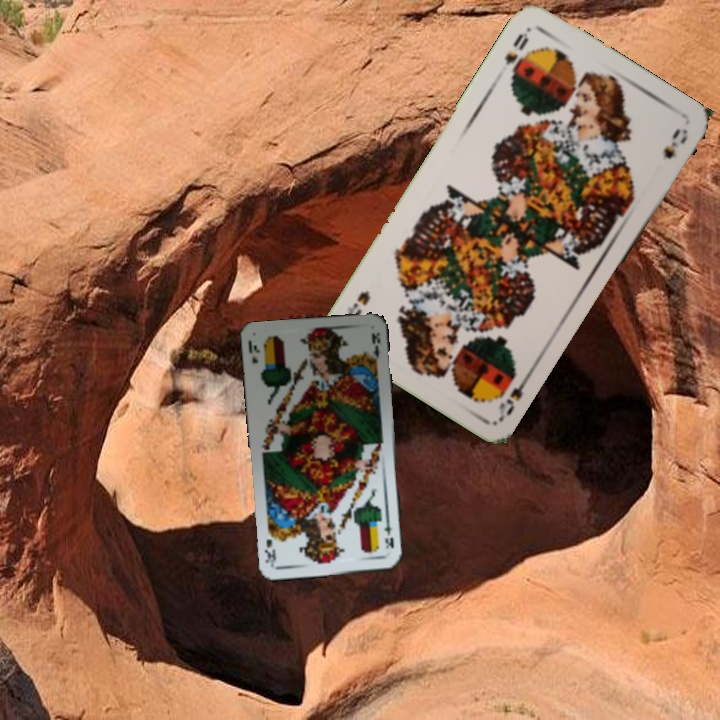EK: (380, 515, 396, 551), (244, 337, 262, 366)
SO: (494, 367, 534, 421), (500, 25, 533, 75)
